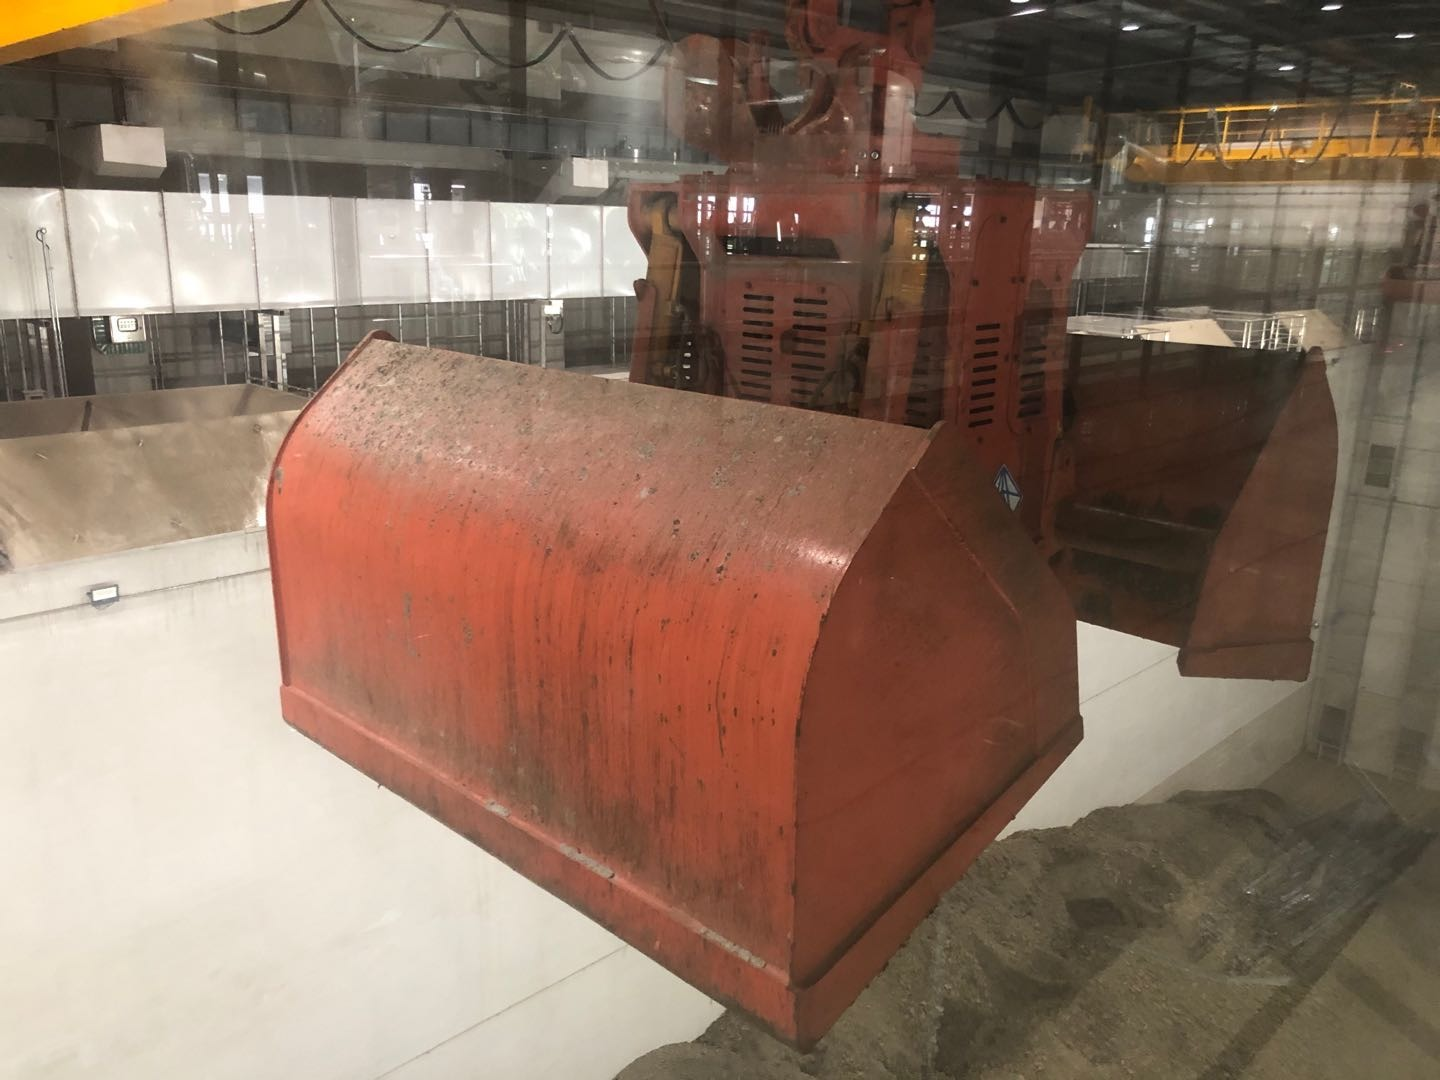grab: (262, 0, 1345, 1051)
